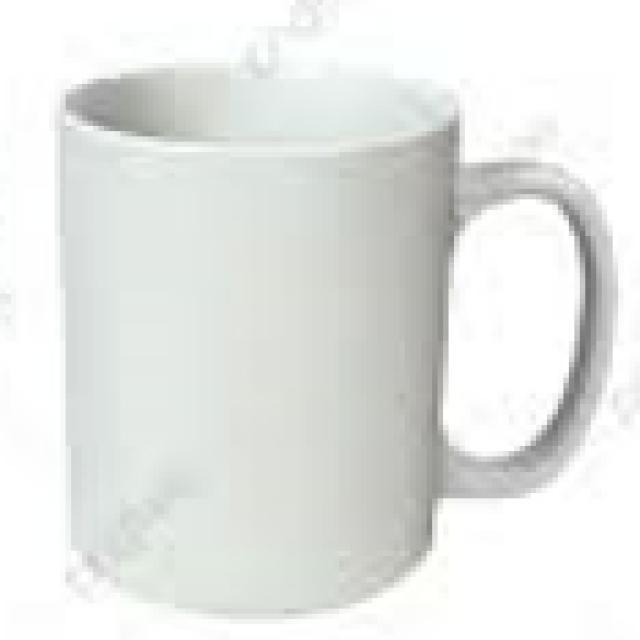taza: (55, 54, 615, 618)
